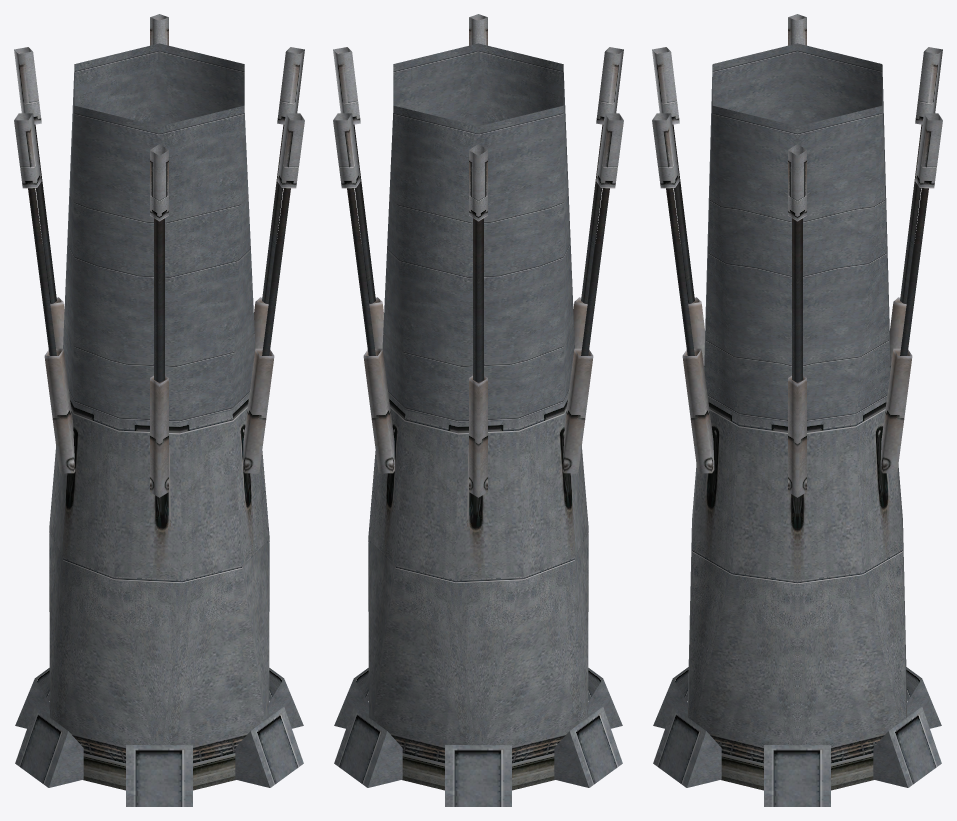
File: poi_all_impl_bunker_pillar_s05_l2.fbx
The picture shows the model from 3 angles, left to right: view 1: azimuth 30°, elevation 25°; view 2: azimuth 150°, elevation 25°; view 3: azimuth 270°, elevation 25°; orthographic projection.
Visible parts, largest first — view 1: mesh_node; view 2: mesh_node; view 3: mesh_node.
Boxes of the visible parts, x1,y1,x2,y2 form: mesh_node: (14, 14, 304, 806); mesh_node: (333, 14, 623, 806); mesh_node: (652, 14, 942, 806).
Size of the model in its own units: 2.5 by 5.44 by 2.16.
